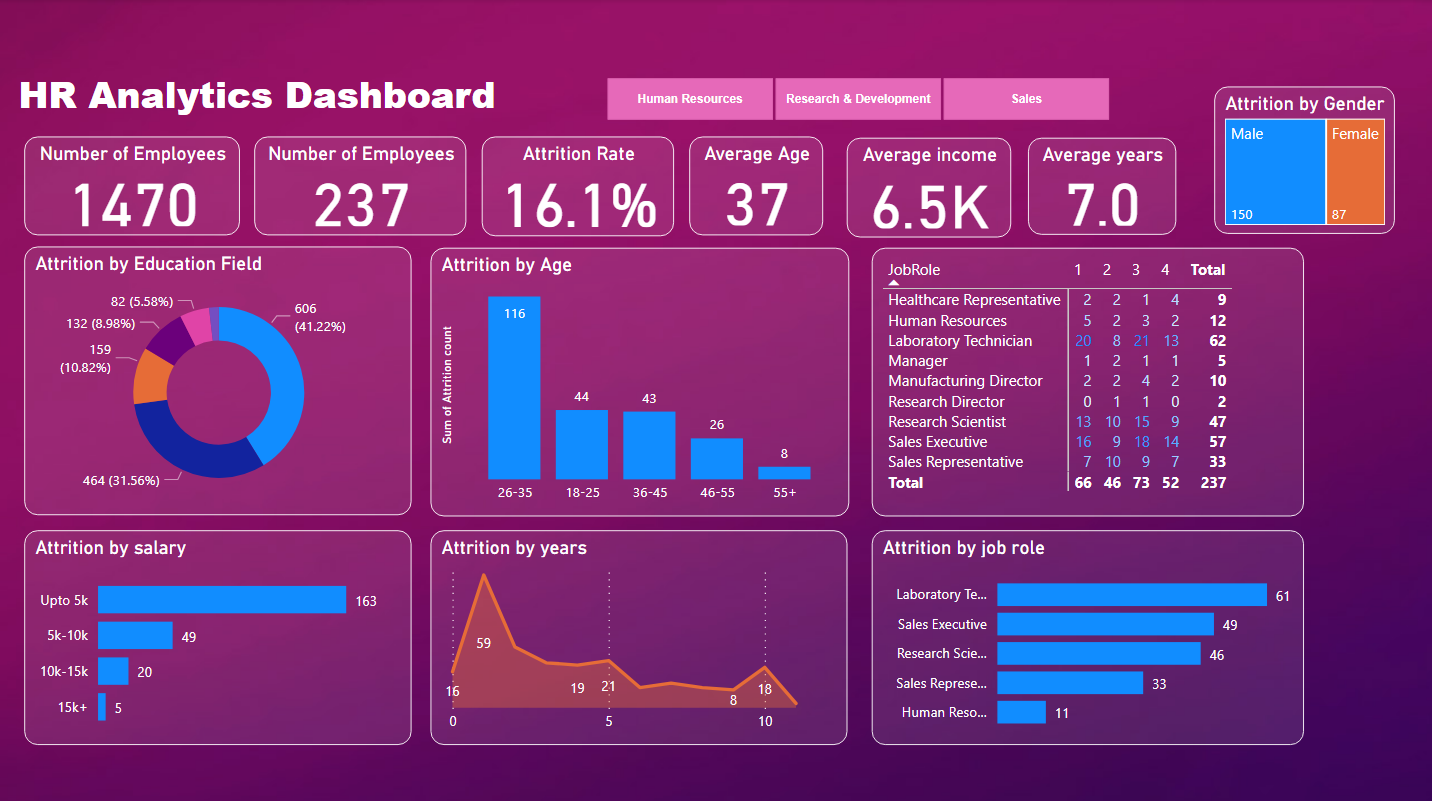

The dashboard page shown, as its layout file describes it:
{"tool":"powerbi","page":{"name":"Page 1","canvas":[1280,720],"ordinal":0},"visuals":[{"type":"card","title":"Number of Employees","fields":{"Values":["Sum(HR_Analytics.EmployeeCount)"]},"box":[23,122,192,88],"z":0},{"type":"card","title":"Number of Employees","fields":{"Values":["Sum(HR_Analytics.Attrition count)"]},"box":[228,122,189,88],"z":1000},{"type":"card","title":"Attrition Rate","fields":{"Values":["HR_Analytics.Measure"]},"box":[430.5,122.4,171.4,89.1],"z":2000},{"type":"card","title":"Average Age","fields":{"Values":["Avg(HR_Analytics.Age)"]},"box":[615.6,122.4,119.3,87.7],"z":3000},{"type":"card","title":"Average income","fields":{"Values":["Avg(HR_Analytics.MonthlyIncome)"]},"box":[755.4,123.8,146.7,89.1],"z":4000},{"type":"card","title":"Average years","fields":{"Values":["Avg(HR_Analytics.YearsAtCompany)"]},"box":[917.2,123.8,131.6,86.4],"z":5000},{"type":"donutChart","title":"Attrition by Education Field","fields":{"Category":["HR_Analytics.EducationField"],"Y":["CountNonNull(HR_Analytics.Attrition)"]},"box":[23.5,220.1,344.7,239.5],"z":6000},{"type":"columnChart","title":"Attrition by Age","fields":{"Category":["HR_Analytics.AgeGroup"],"Y":["Sum(HR_Analytics.Attrition count)"]},"box":[384.9,221.5,372.4,239.5],"z":7000},{"type":"pivotTable","fields":{"Rows":["HR_Analytics.JobRole"],"Columns":["HR_Analytics.JobSatisfaction"],"Values":["Sum(HR_Analytics.Attrition count)"]},"box":[778,221.5,384.9,239.5],"z":8000},{"type":"barChart","title":"Attrition by salary","fields":{"Category":["HR_Analytics.SalarySlab"],"Y":["Sum(HR_Analytics.Attrition count)"]},"box":[23.5,473.5,344.7,191],"z":8001},{"type":"stackedAreaChart","title":"Attrition by years","fields":{"Category":["HR_Analytics.YearsAtCompany"],"Y":["Sum(HR_Analytics.Attrition count)"]},"box":[384.9,473.5,371,191],"z":8002},{"type":"treemap","title":"Attrition by Gender","fields":{"Group":["HR_Analytics.Gender"],"Values":["Sum(HR_Analytics.Attrition count)"]},"box":[1082.6,77.5,160.6,131.5],"z":8003},{"type":"clusteredBarChart","title":"Attrition by job role","fields":{"Category":["HR_Analytics.JobRole"],"Y":["Sum(HR_Analytics.Attrition count)"]},"box":[778,473.5,384.9,191],"z":8004},{"type":"textbox","box":[13.7,56.2,489.5,67.2],"z":8005},{"type":"slicer","fields":{"Values":["HR_Analytics.Department"]},"box":[516.4,63.7,497,51.2],"z":8006}]}

Visuals, with their boxes in screenshot pixels (x1, y1, x2, y2), scaled from the page's 1280x720 canvas onto the 1432x801 screenshot:
"Number of Employees" card: (26,136,241,234)
"Number of Employees" card: (255,136,467,234)
"Attrition Rate" card: (482,136,673,235)
"Average Age" card: (689,136,822,234)
"Average income" card: (845,138,1009,237)
"Average years" card: (1026,138,1173,234)
"Attrition by Education Field" donutChart: (26,245,412,511)
"Attrition by Age" columnChart: (431,246,847,513)
pivotTable - HR_Analytics.JobRole x HR_Analytics.JobSatisfaction: (870,246,1301,513)
"Attrition by salary" barChart: (26,527,412,739)
"Attrition by years" stackedAreaChart: (431,527,846,739)
"Attrition by Gender" treemap: (1211,86,1391,233)
"Attrition by job role" clusteredBarChart: (870,527,1301,739)
textbox: (15,63,563,137)
slicer - HR_Analytics.Department: (578,71,1134,128)
